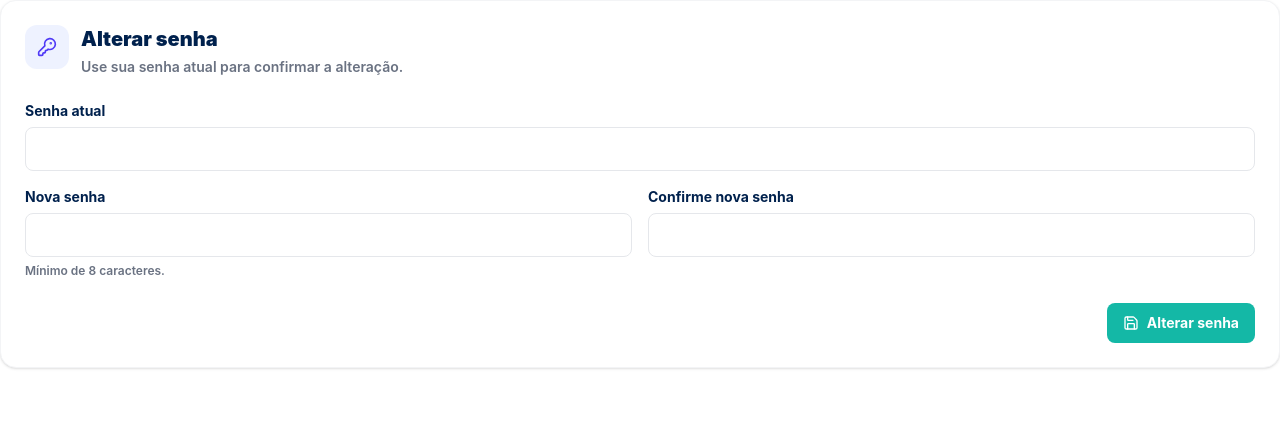
AlterarSenhaForm › altera senha e limpa campos no sucesso
Type "atual123" into the password field labelled "Senha atual". click: (640, 149)
box: [25,127,1255,171]
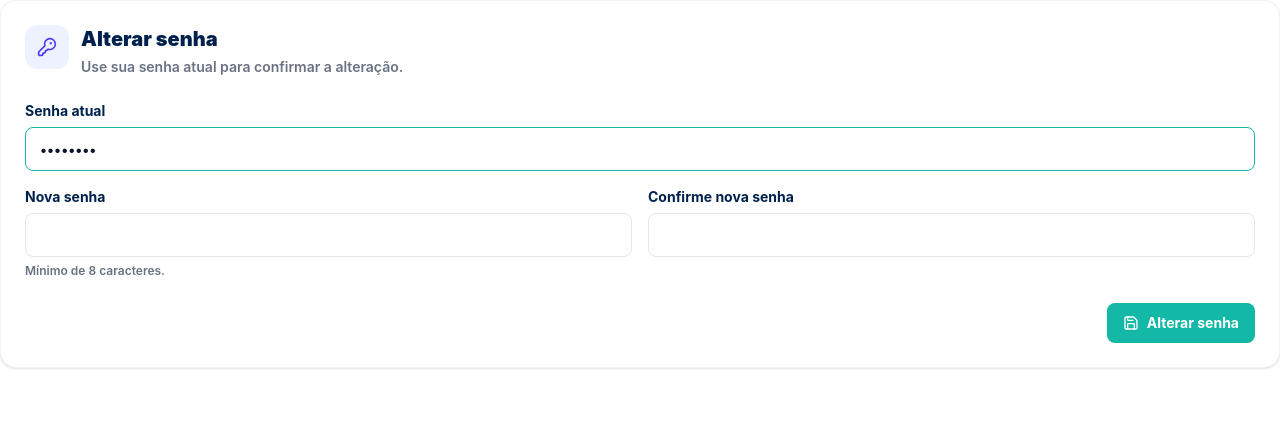
Type "nova1234" into the password field labelled "Nova senha". click: (328, 235)
box: [25,213,632,257]
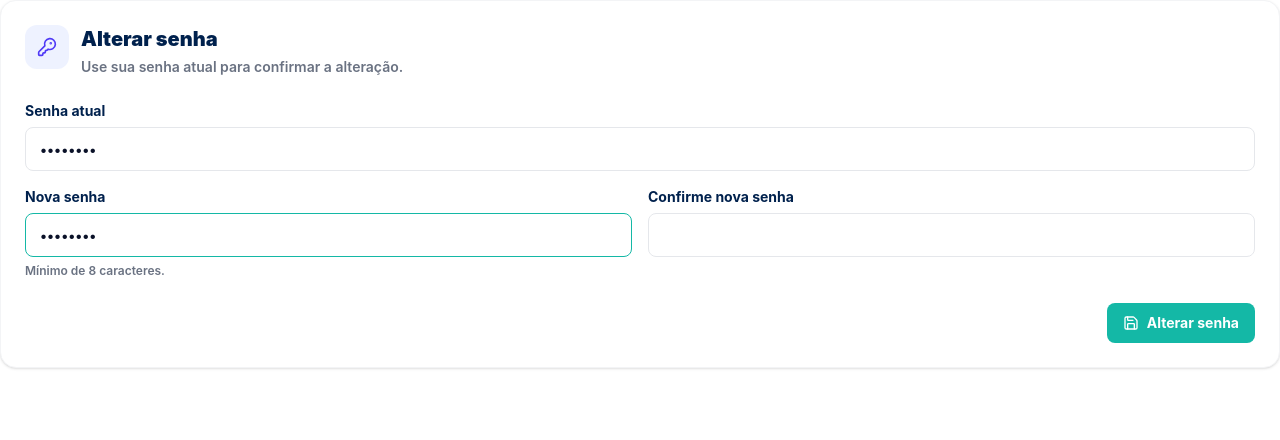
Type "nova1234" into the password field labelled "Confirme nova senha". click: (952, 235)
box: [648,213,1255,257]
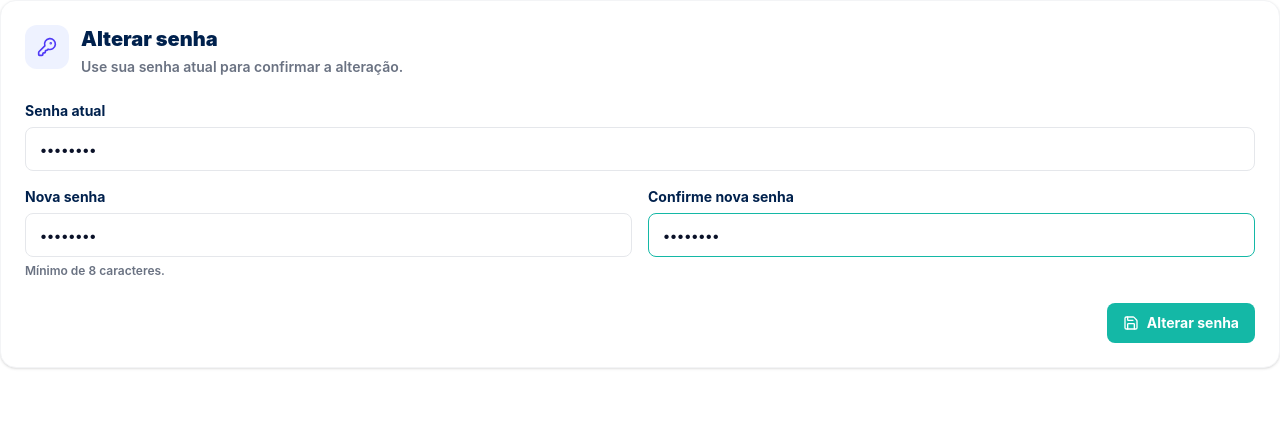
Click the button "Alterar senha". click: (1181, 323)
box: [1107,303,1255,343]
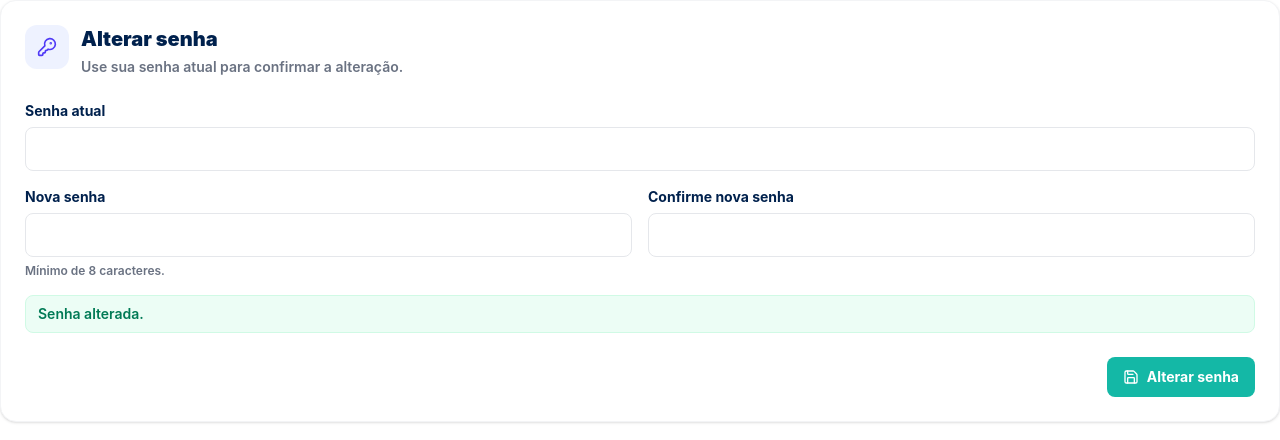
expect the text "Senha alterada." is shown: met, box [25,295,1255,333]
expect the password field labelled "Senha atual" is empty: met, box [25,127,1255,171]
expect the password field labelled "Nova senha" is empty: met, box [25,213,632,257]
